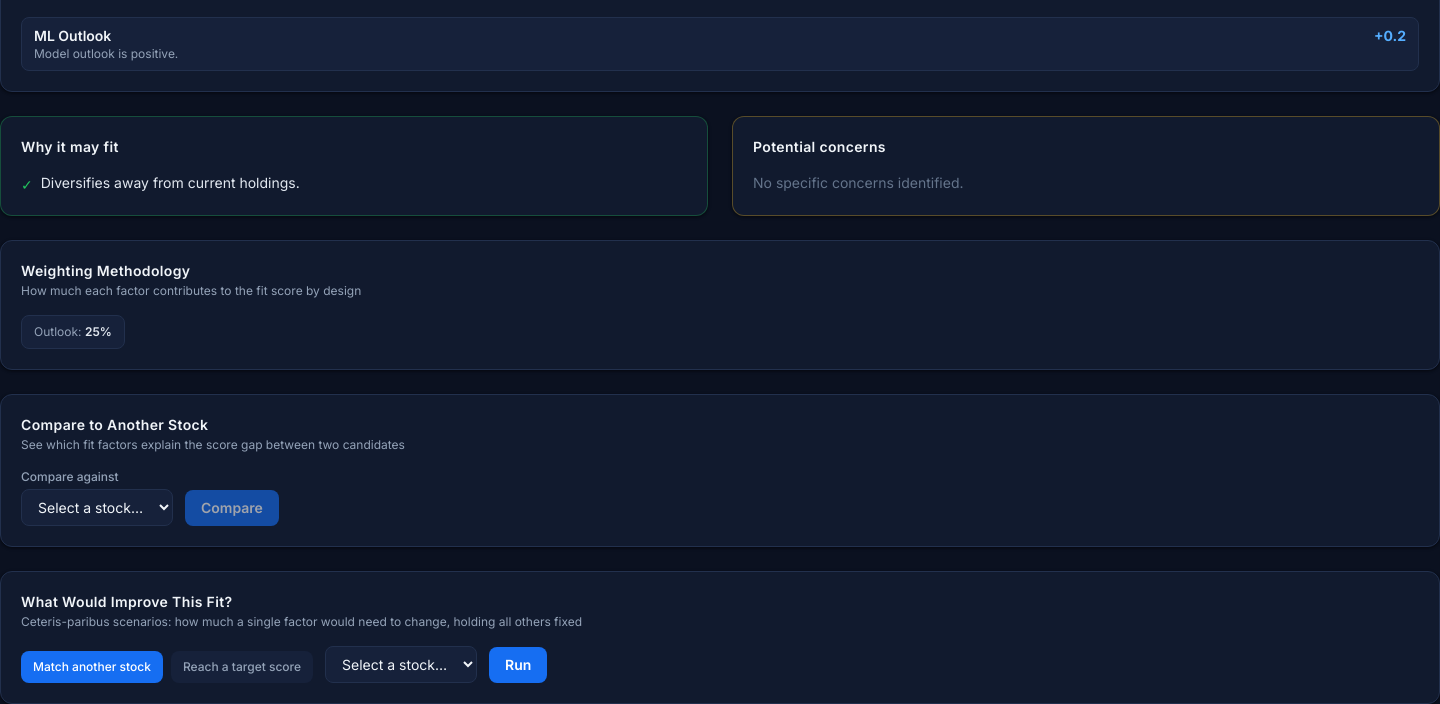
Test: PortfolioFitPage - What Would Improve This Fit? › runs a target-score scenario and renders the term scenarios
(page scrolled)
Expected: the heading "What Would Improve This Fit?" is shown, [21,593,232,610]
Click the button "Reach a target score".
click(242, 667)  # box [171,651,313,683]
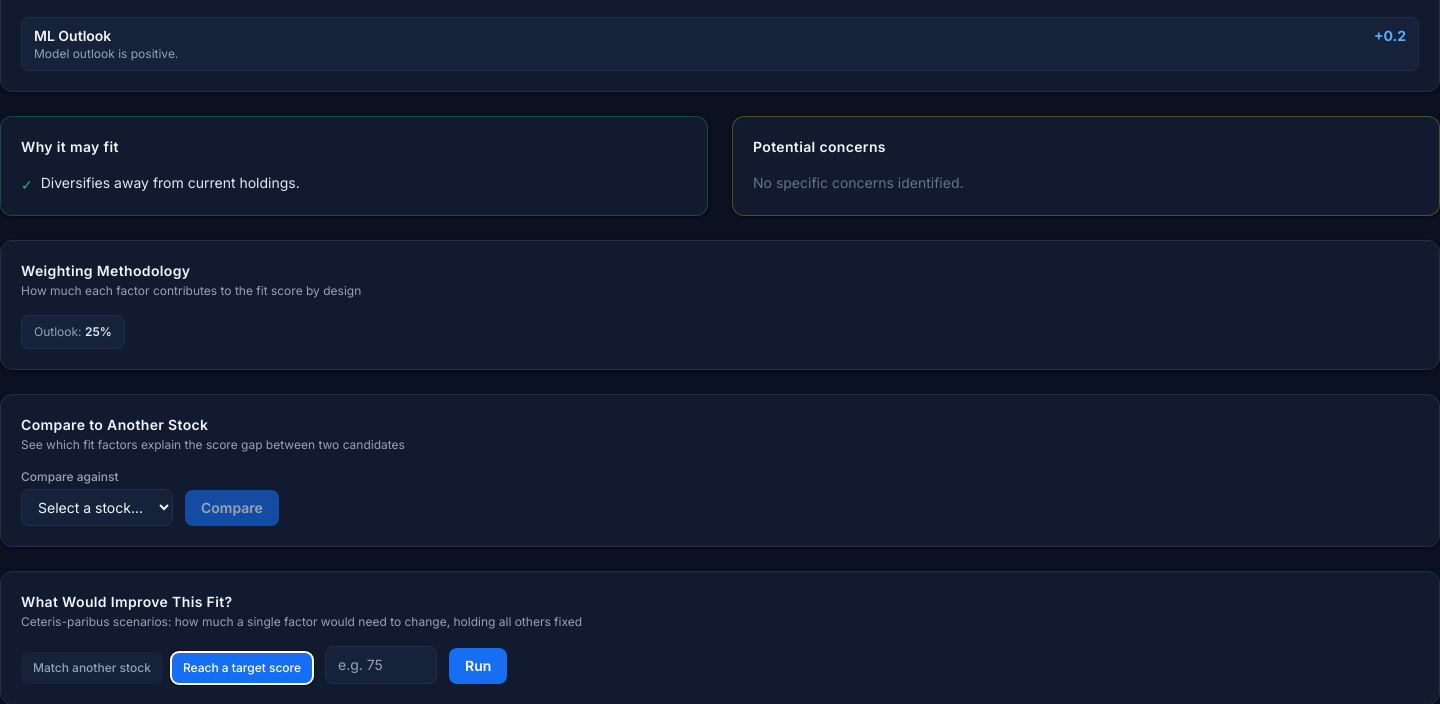
Type "90" into the number field with placeholder "e.g. 75".
click(381, 665); type("90")  # box [325,646,437,684]
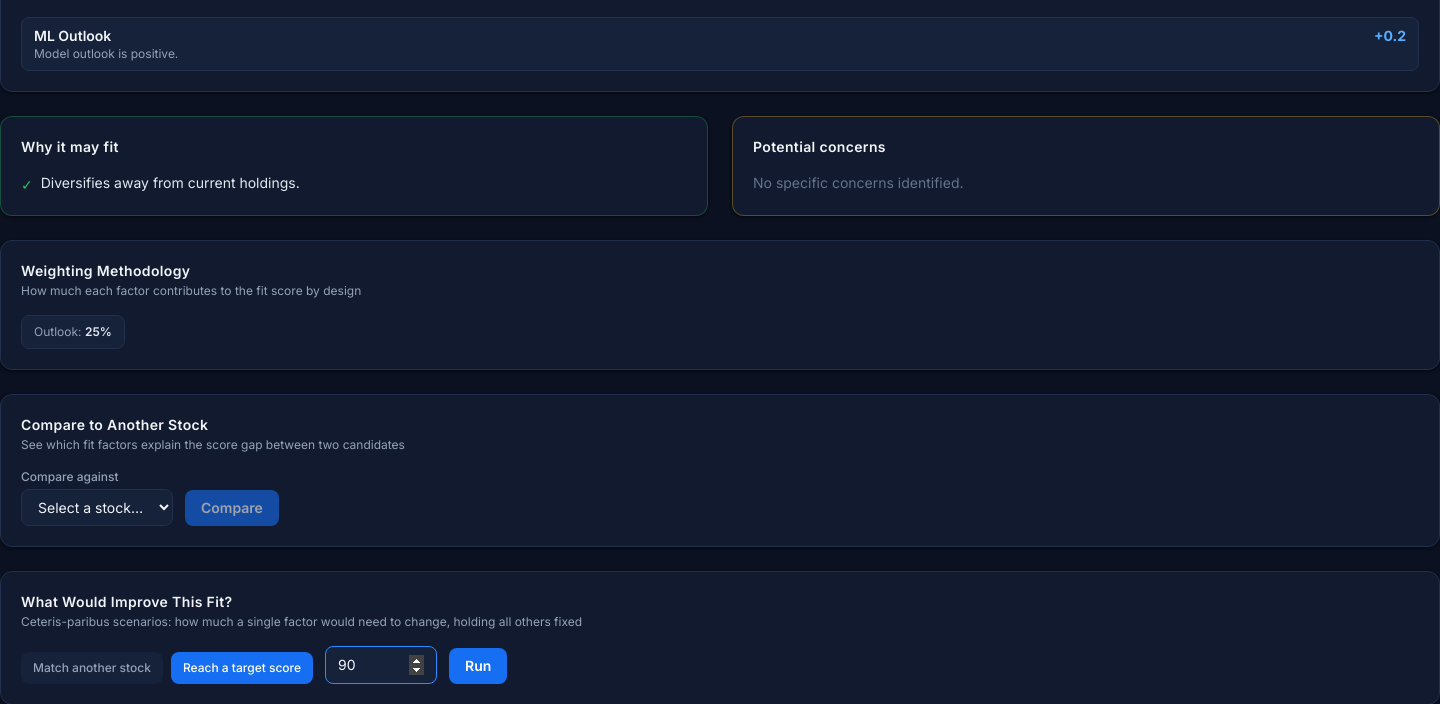
Click the button "Run".
click(478, 666)  # box [449,648,507,684]
(page scrolled)
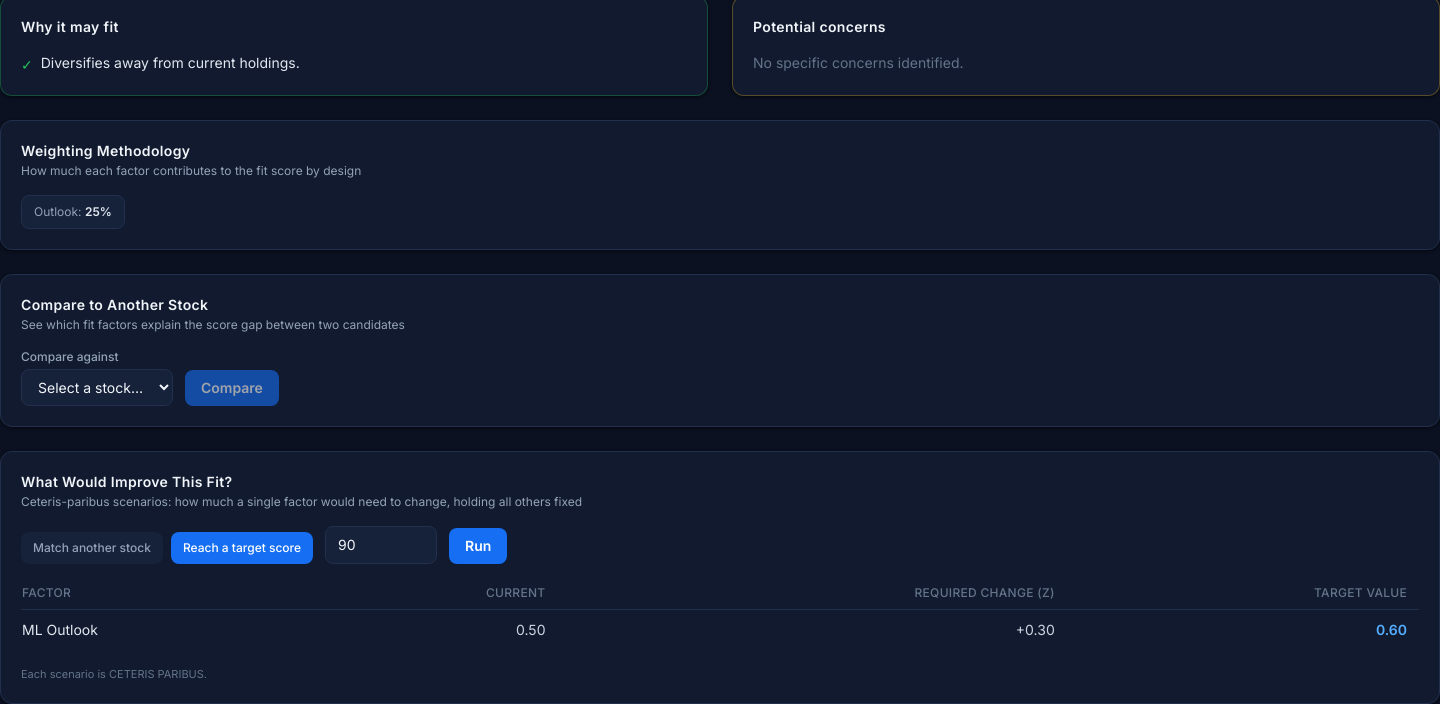
Expected: the text "Each scenario is CETERIS PARIBUS." is shown, [21,667,207,681]
